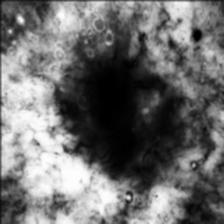Potentially Malignant Skin Tumors: (89, 54, 137, 168)
